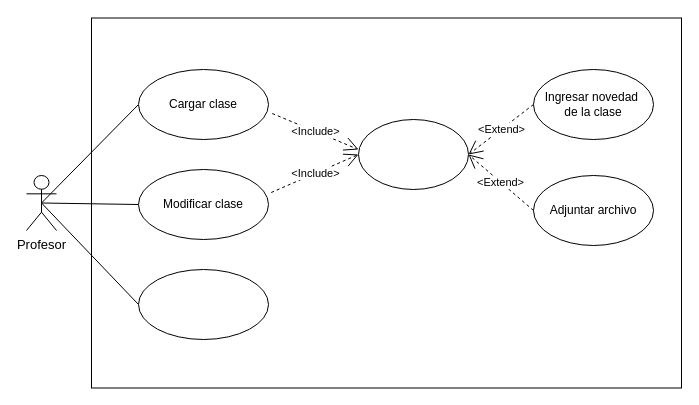
Image size: 699x405. Some labels were removed from this diagram. Each missing label, with the box of its shape:
Eliminar Clase: (138, 268, 268, 340)
Ingresar datos: (358, 118, 468, 190)
